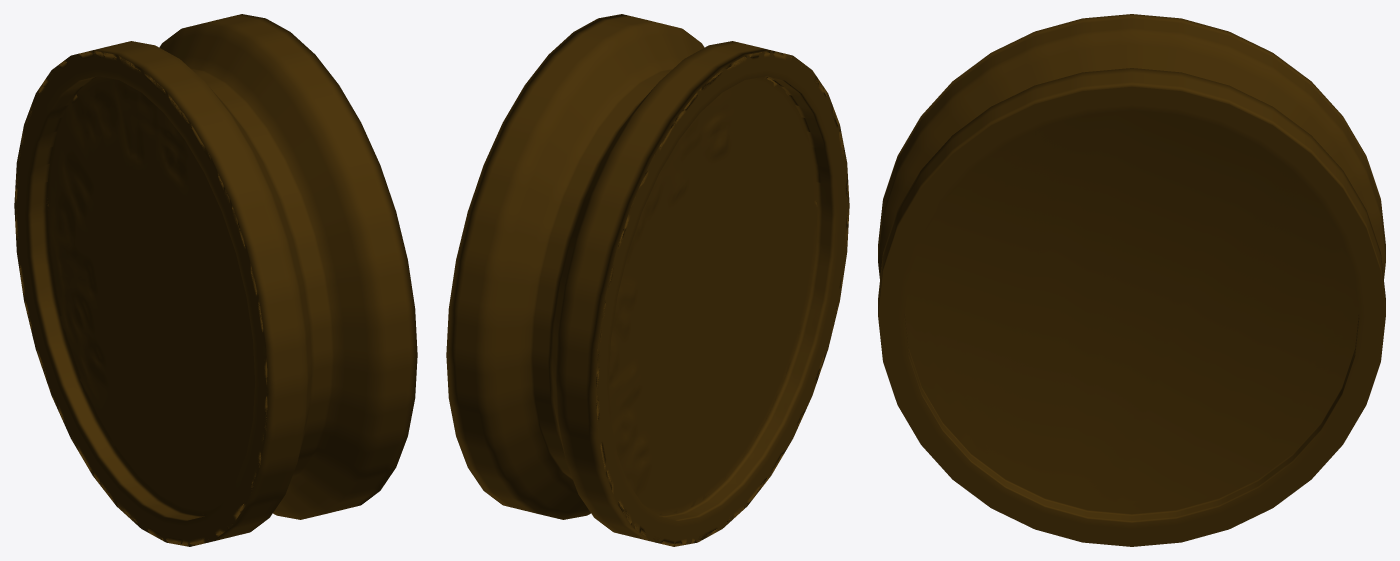
The model's file is hareketli pulley.glb.
The picture shows the model from 3 angles, left to right: view 1: azimuth 30°, elevation 25°; view 2: azimuth 150°, elevation 25°; view 3: azimuth 270°, elevation 25°; orthographic projection.
Parts seen in each view (by area): view 1: Cylinder.004; view 2: Cylinder.004; view 3: Cylinder.004.
Part boxes in pixels (x1,y1,x2,y2): Cylinder.004: (14,14,417,546); Cylinder.004: (446,14,849,546); Cylinder.004: (878,14,1385,546).
Size of the model in its own units: 0.3868 by 1.14 by 1.14.
